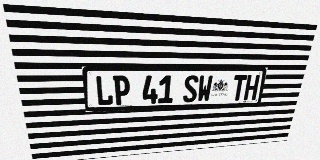1: (158, 75, 174, 103)
4: (142, 75, 158, 104)
H: (243, 75, 260, 100)
L: (95, 76, 113, 106)
P: (113, 75, 130, 105)
S: (183, 75, 199, 103)
T: (231, 75, 247, 101)
W: (197, 75, 213, 102)
